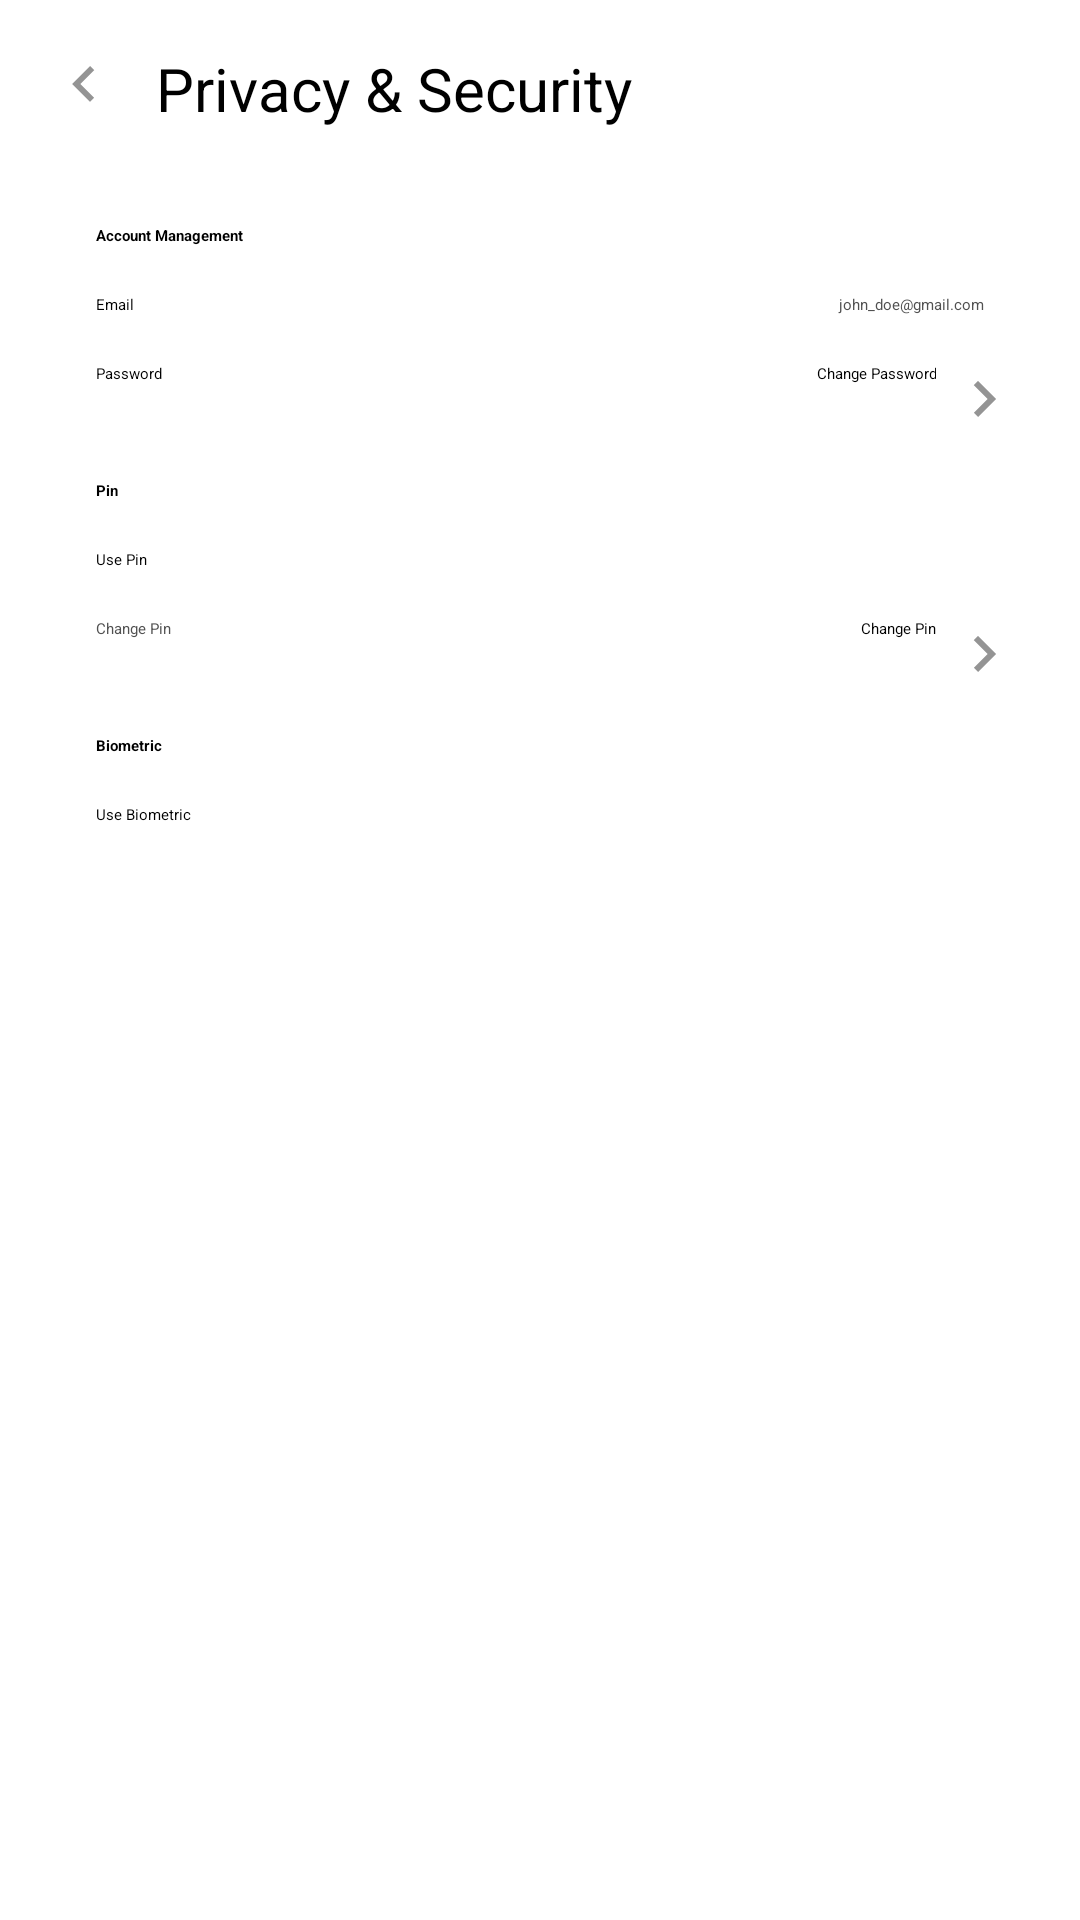

Icon bounding boxes for this 1080w x 1920h phone screenshot, format box(x1, y1, x2, y2):
arrow left: box(72, 66, 94, 102)
arrow right: box(974, 381, 996, 417), box(974, 636, 996, 672)
